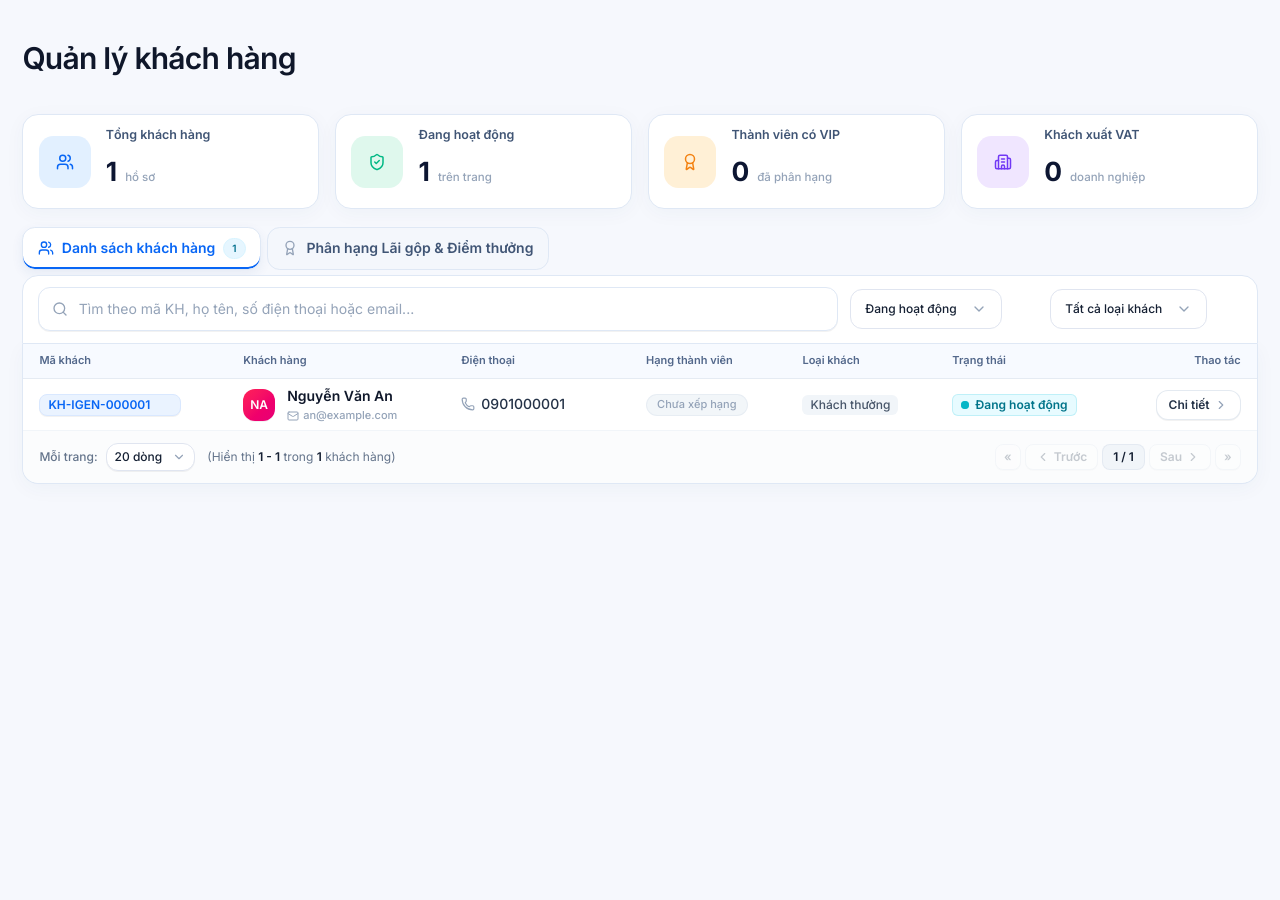
Test: CustomerWorkspace › renders read-only mode without mutation controls
Check: the text "Nguyễn Văn An" is shown, box x1=287 y1=386 x2=397 y2=406
Click the button with aria-label "Chi tiết Nguyễn Văn An" at (1198,405), box x1=1156 y1=390 x2=1241 y2=420
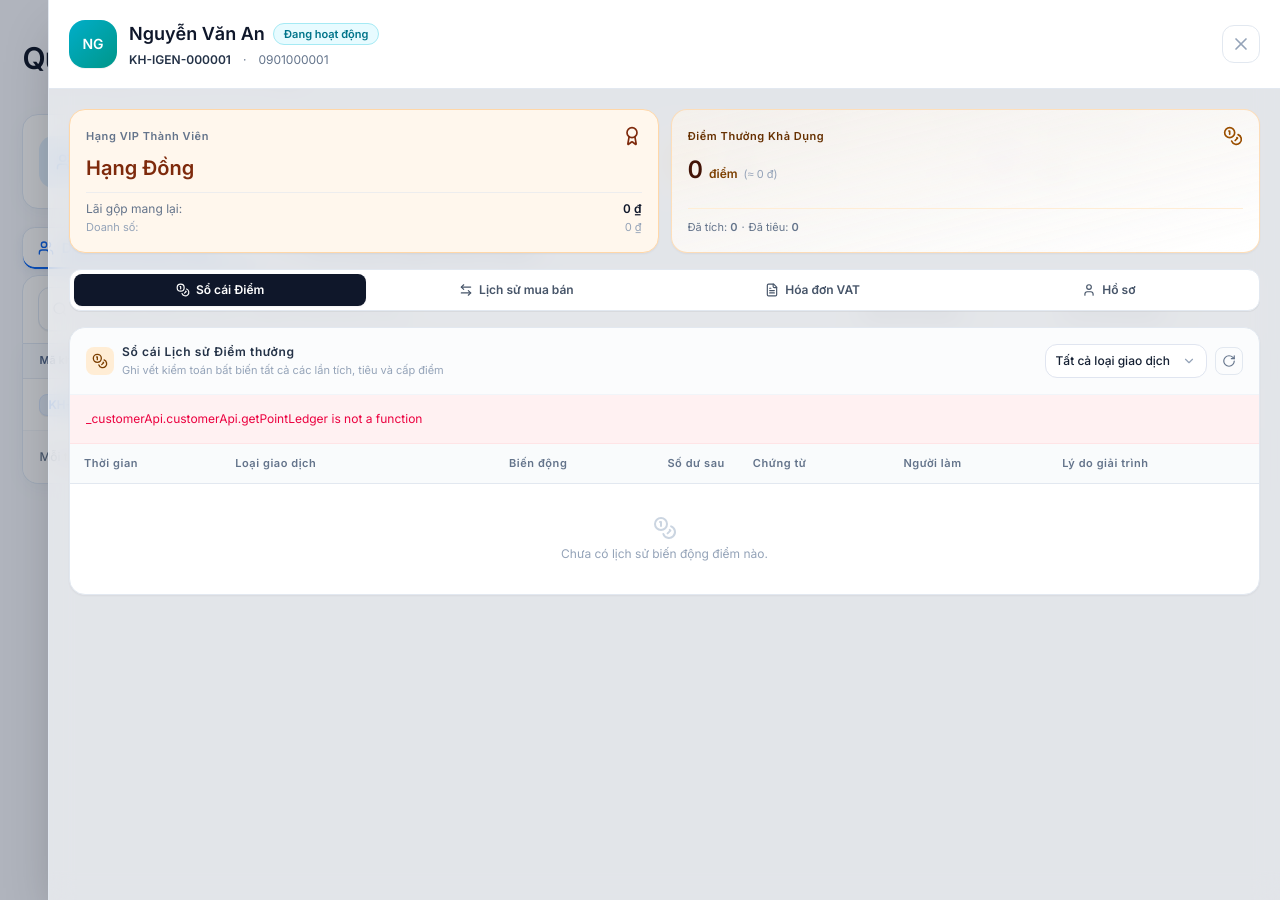
Check: the heading "Nguyễn Văn An" is shown, box x1=129 y1=20 x2=265 y2=48
